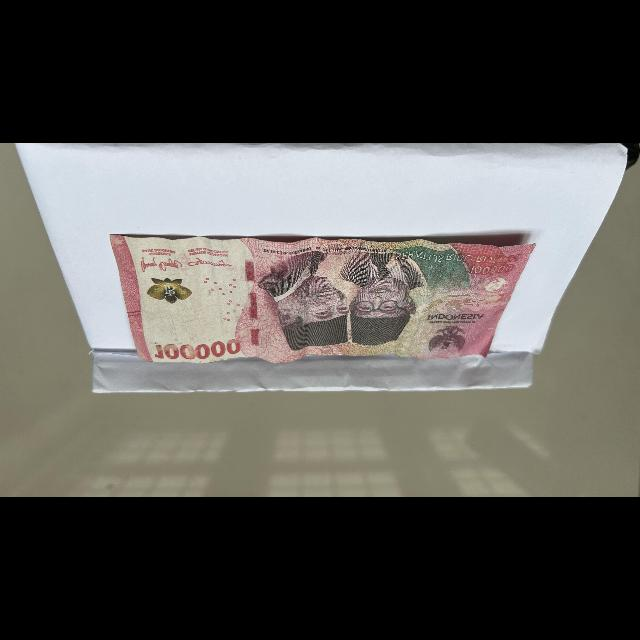Palsu-100k: (104, 231, 540, 373)
Tinta-Palsu-100k: (145, 274, 198, 306)
